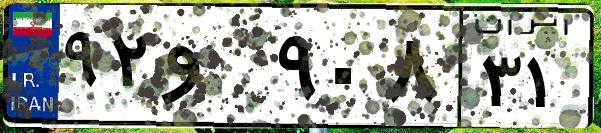0: (330, 28, 385, 110)
1: (525, 38, 570, 115)
2: (110, 28, 158, 98)
3: (475, 38, 525, 113)
8: (385, 28, 445, 110)
9: (270, 28, 330, 110), (57, 26, 110, 100)
و: (158, 20, 270, 120)
